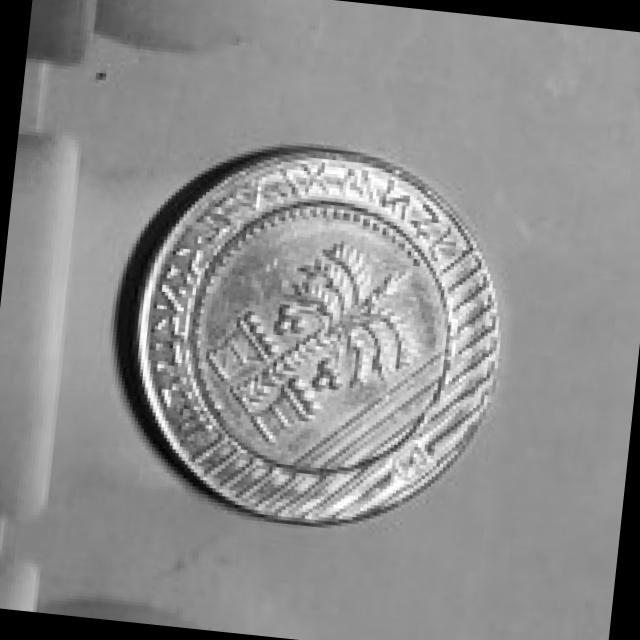10-shekel: (80, 121, 529, 562)
